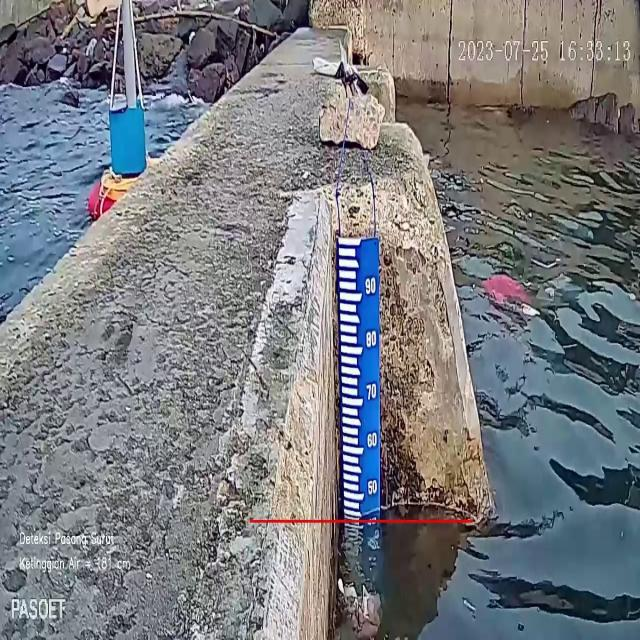50: (368, 479, 378, 495)
60: (367, 432, 376, 448)
70: (366, 380, 377, 402)
80: (366, 330, 376, 350)
90: (365, 276, 376, 294)
staff: (338, 234, 379, 516)
